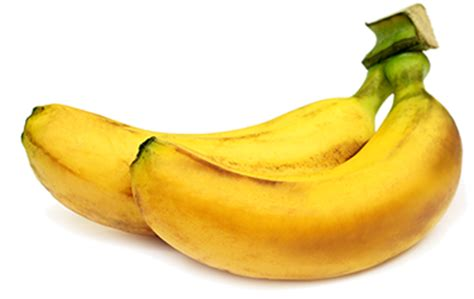banana: (126, 91, 464, 280), (20, 92, 382, 237)
